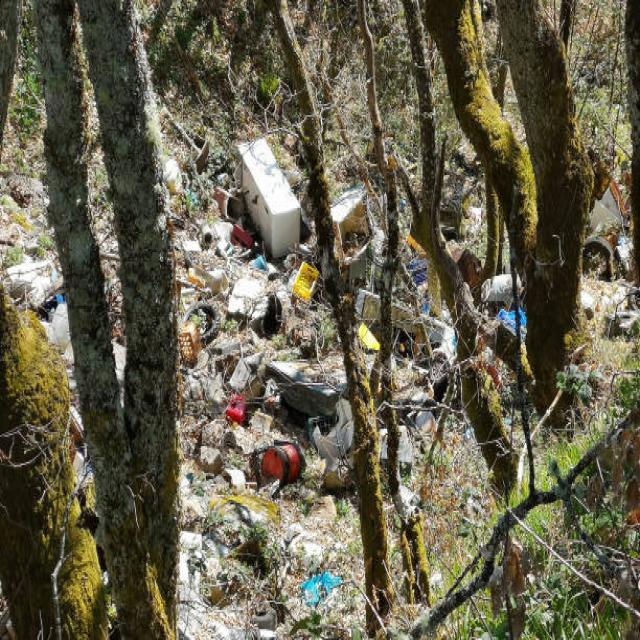trash: (184, 155, 543, 520)
